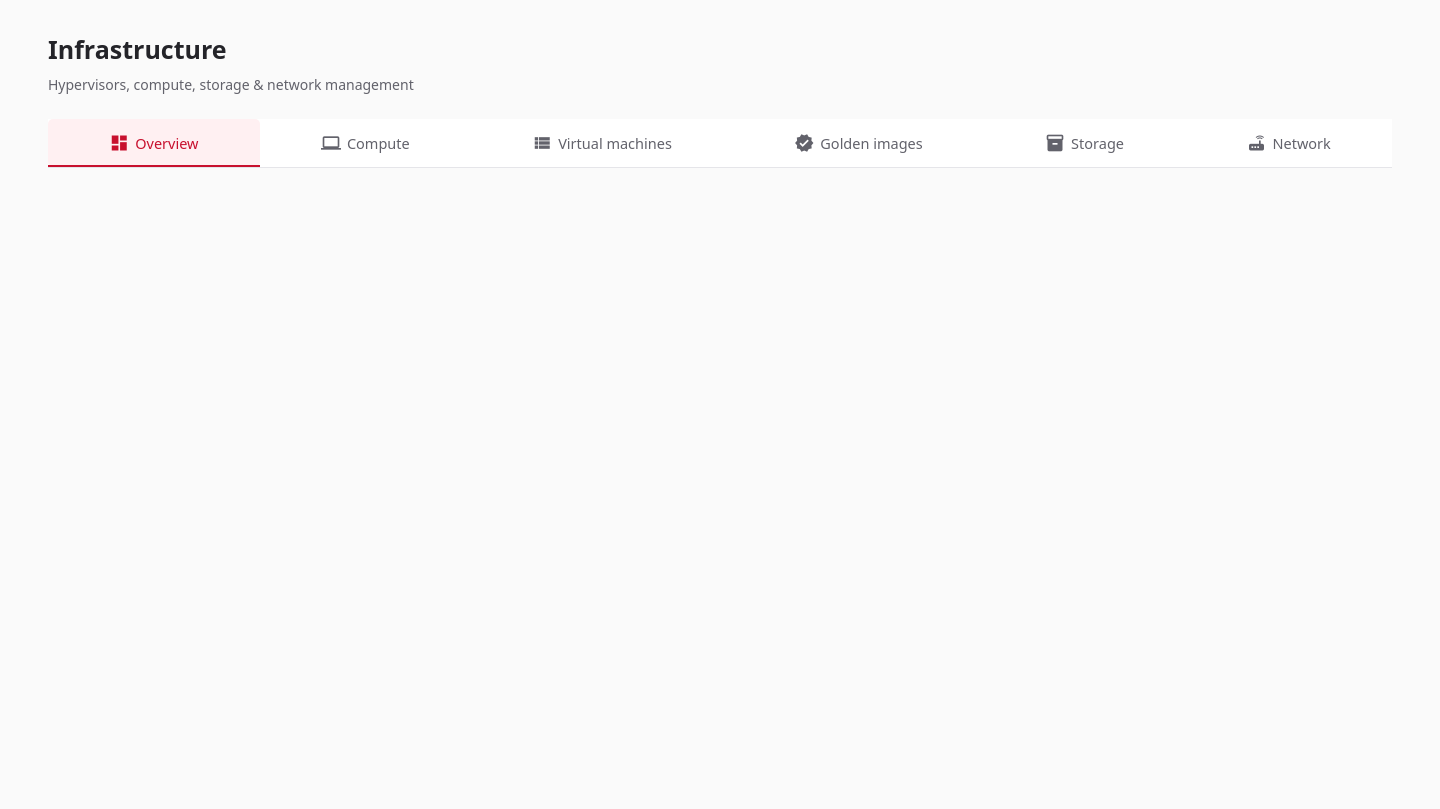
InfrastructureComponent (hypervisor connection form) › shows a Verify TLS toggle, on by default, with the VMCA hint, and a vSphere Datacenter field
Click the tab "Compute" at (365, 143), box [321,133,410,153]
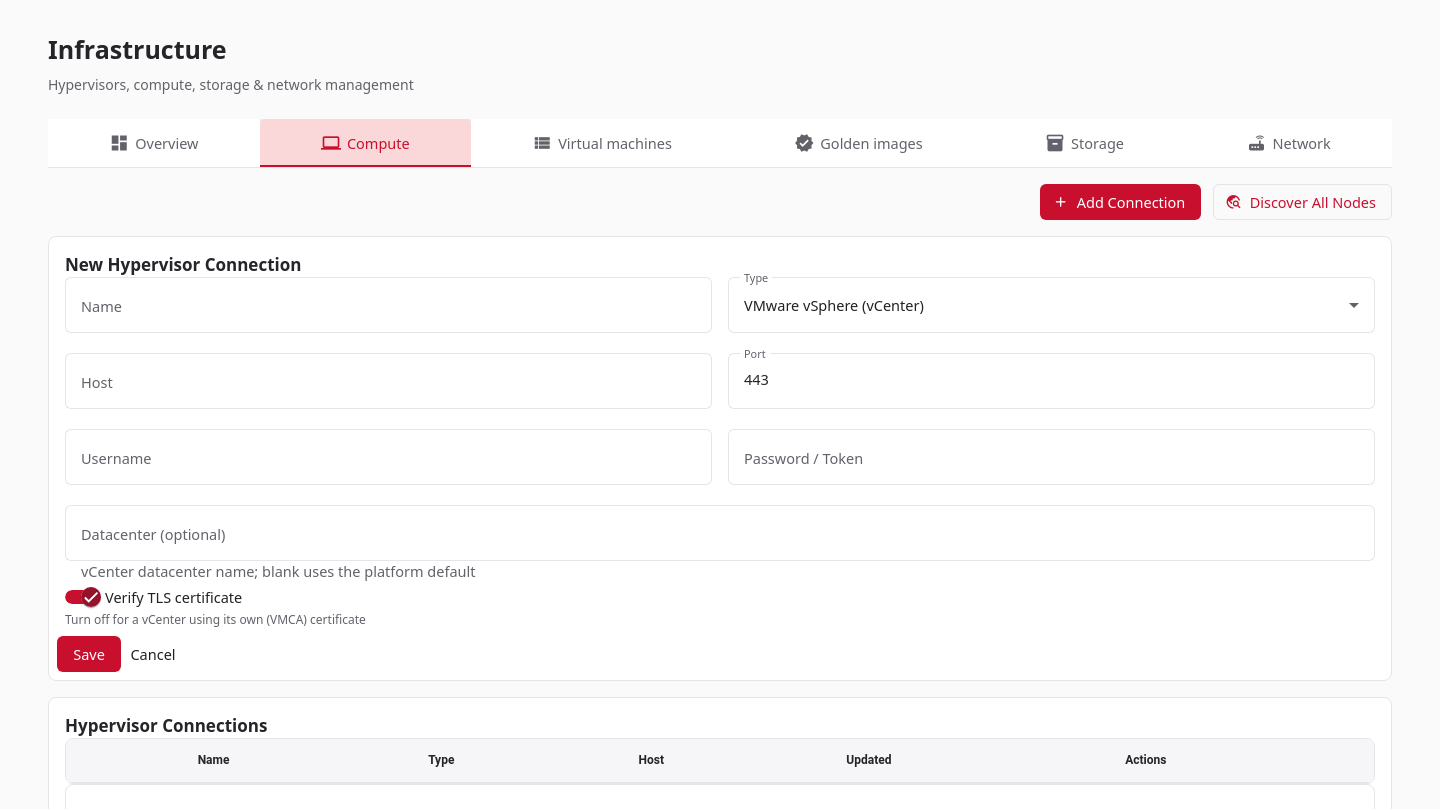
Check: the element with test id "conn-verify-ssl" is shown, box [65,587,242,607]
Check: the label "Verify TLS certificate" is shown, box [101,587,242,607]
Check: the text "Turn off for a vCenter using its own (VMCA) certificate" is shown, box [65,611,366,628]
